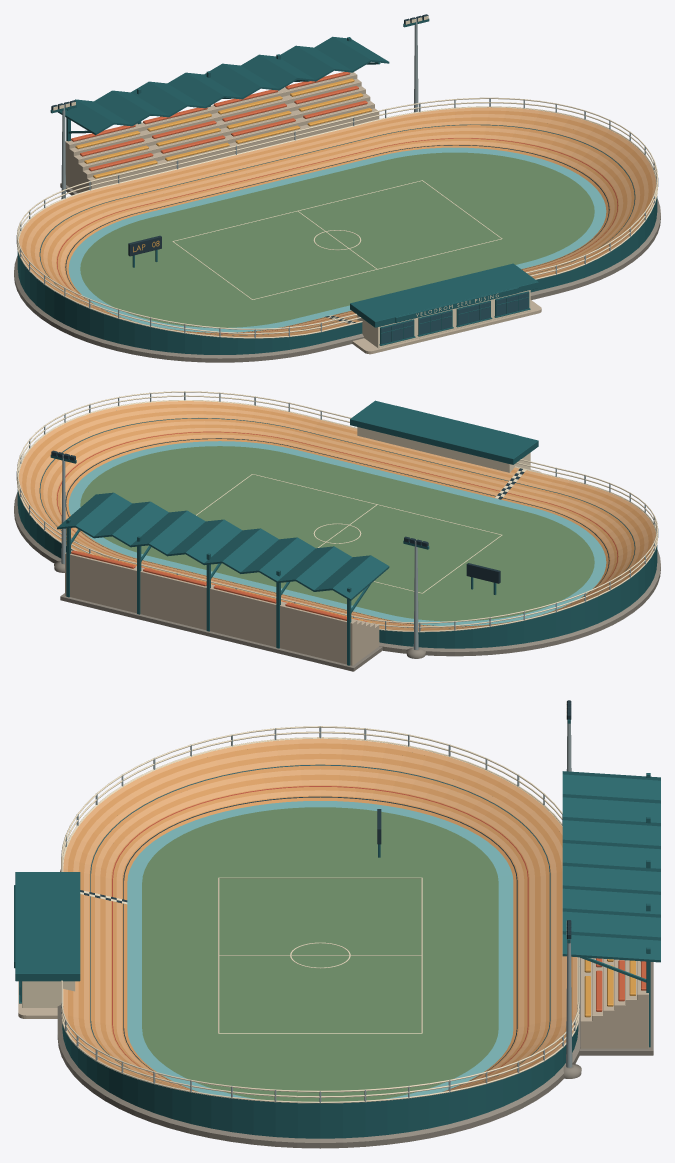
The picture shows the model from 3 angles, top to bottom: view 1: azimuth 30°, elevation 25°; view 2: azimuth 150°, elevation 25°; view 3: azimuth 270°, elevation 25°; orthographic projection. The views are drawn at different scales.
Visible parts, largest first — view 1: Infield, Banked Racing Surface, Tribune, Track Office, Safety Fences; view 2: Banked Racing Surface, Infield, Tribune, Track Office, Safety Fences; view 3: Infield, Banked Racing Surface, Tribune, Track Office, Safety Fences.
Boxes of the visible parts, <box> form: Infield: <box>80,152,594,327</box>; Banked Racing Surface: <box>14,107,660,362</box>; Tribune: <box>50,14,429,199</box>; Track Office: <box>350,263,541,354</box>; Safety Fences: <box>16,97,658,338</box>; Banked Racing Surface: <box>14,400,660,656</box>; Infield: <box>80,446,594,621</box>; Tribune: <box>50,450,429,671</box>; Track Office: <box>350,400,540,472</box>; Safety Fences: <box>16,391,658,632</box>; Infield: <box>142,807,498,1101</box>; Banked Racing Surface: <box>57,738,580,1148</box>; Tribune: <box>562,700,660,1078</box>; Track Office: <box>14,872,80,1018</box>; Safety Fences: <box>61,726,579,1103</box>.
Size of the model in its own units: 80.6 by 15.01 by 59.82.
